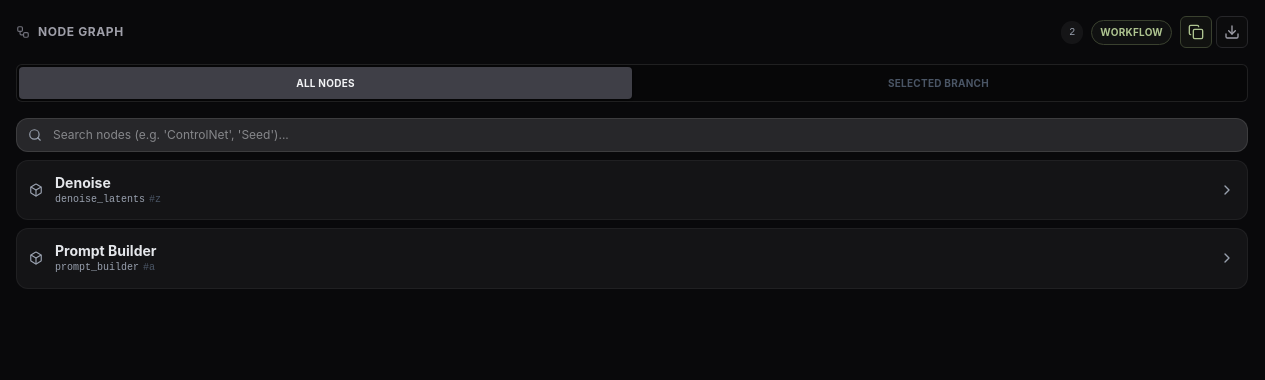
Test: WorkflowInspector › extracts mixed JSON and refines flat InvokeAI invocation nodes
Expected: the text "denoise_latents" is shown, [55,193,145,207]
Expected: the text titled "Prompt Builder" is shown, [55,242,156,259]
Click the text titled "Denoise" at (83, 182), box [55,174,111,191]
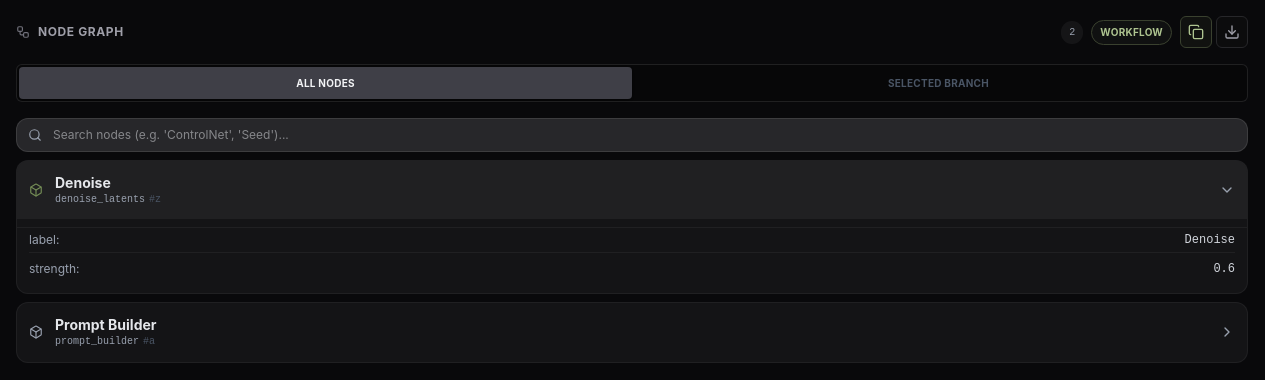
Now the text "strength:" is shown, box [29,261,80,277]
Now the text "0.6" is shown, box [1213,261,1235,277]
